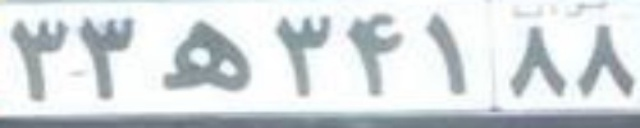1: (423, 12, 464, 94)
3: (78, 15, 136, 99), (272, 14, 331, 96), (7, 18, 65, 101)
4: (345, 13, 404, 96)
8: (575, 25, 634, 97), (508, 24, 566, 96)
he: (159, 20, 250, 91)
